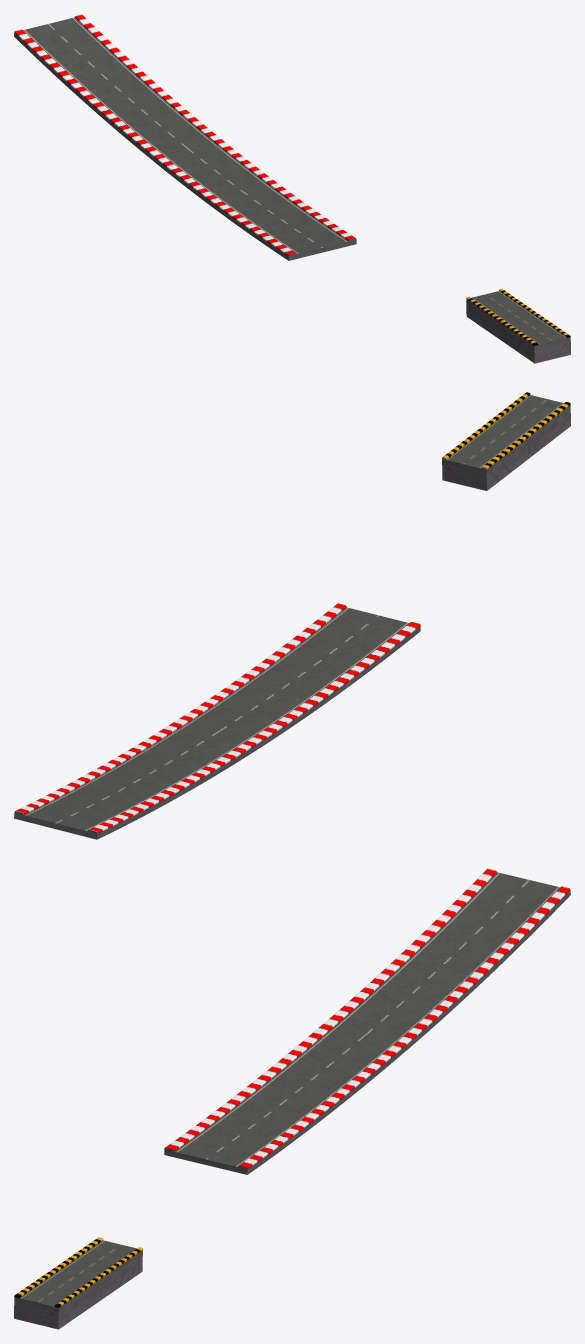
Rendered from gt_stunt_track.glb.
3 renders of one model, top to bottom at view 1: azimuth 30°, elevation 25°; view 2: azimuth 150°, elevation 25°; view 3: azimuth 330°, elevation 25°, orthographic. The views are drawn at different scales.
Parts seen in each view (by area): view 1: camera4; view 2: camera4; view 3: camera4.
Boxes of the visible parts, box(x1,y1,x2,y2) form: camera4: box(14, 14, 570, 363); camera4: box(14, 392, 570, 839); camera4: box(14, 868, 570, 1329).
Size of the model in its own units: 31.1 by 10.57 by 234.
8 materials, 8 textured.
